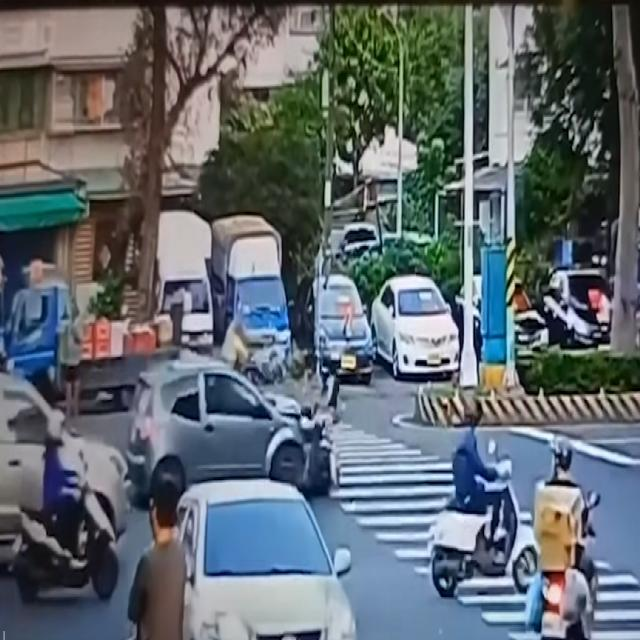accident: (130, 348, 348, 514), (252, 369, 360, 499)
